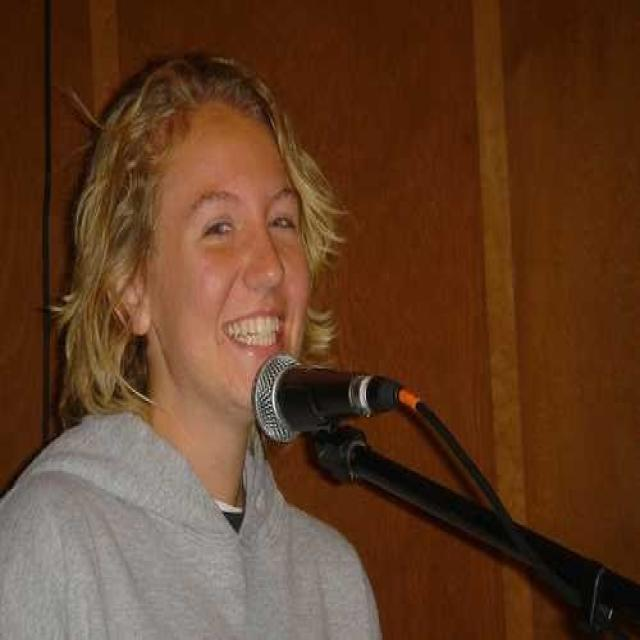microphone: (257, 350, 402, 450)
